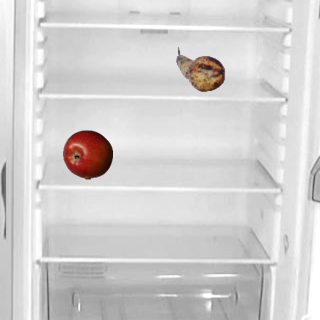Apple Braeburn: (62, 129, 112, 179)
Pear Abate: (175, 44, 225, 94)
